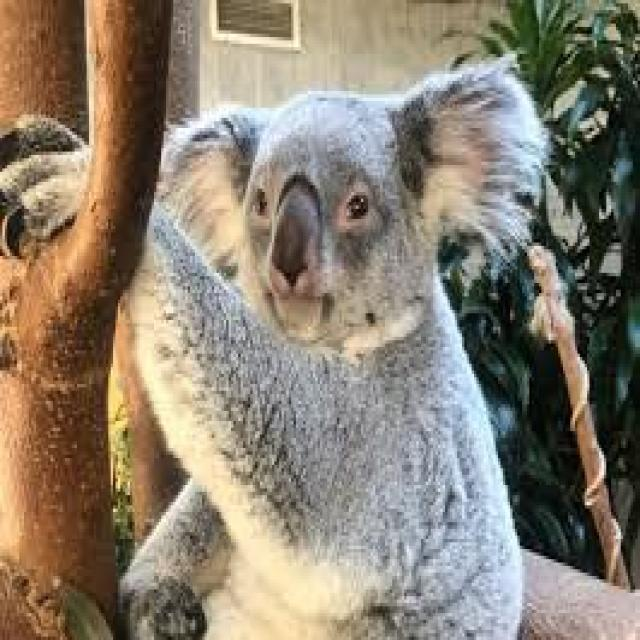Koala: (0, 50, 547, 640)
